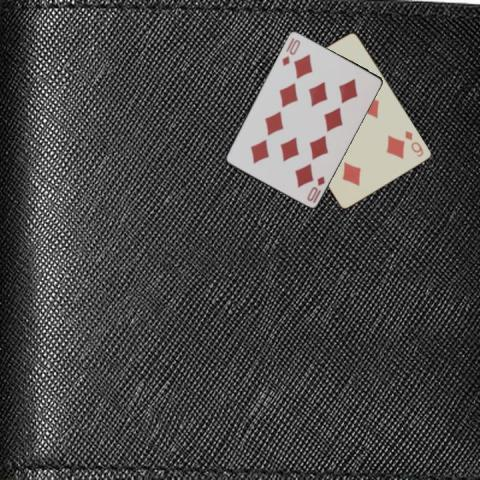10d: (304, 172, 327, 202), (279, 36, 301, 67)
6d: (402, 127, 425, 158)
